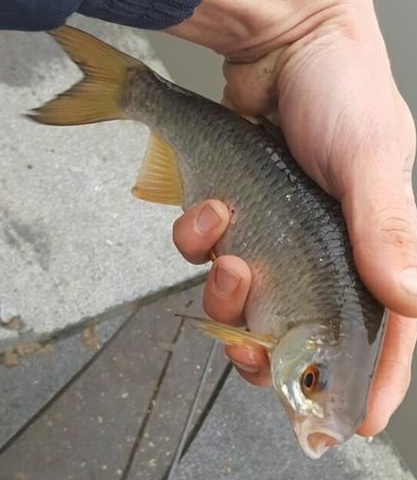Rutilus rutilus: (20, 20, 397, 460)
